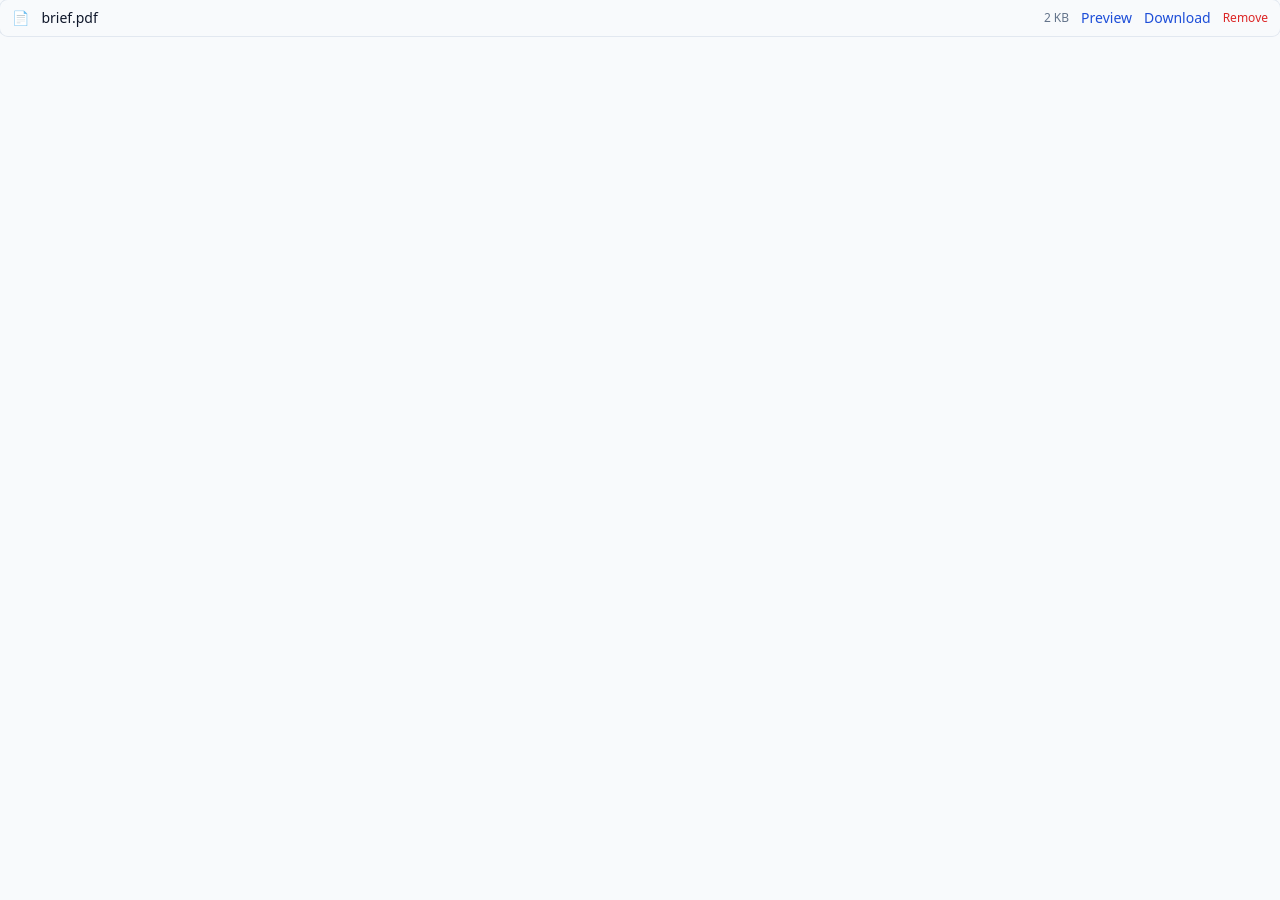
AttachmentList › shows the error when the file cannot be loaded
The image size is (1280, 900).
Click the button with aria-label "Preview brief.pdf": [1107, 18] box [1081,8,1132,28]
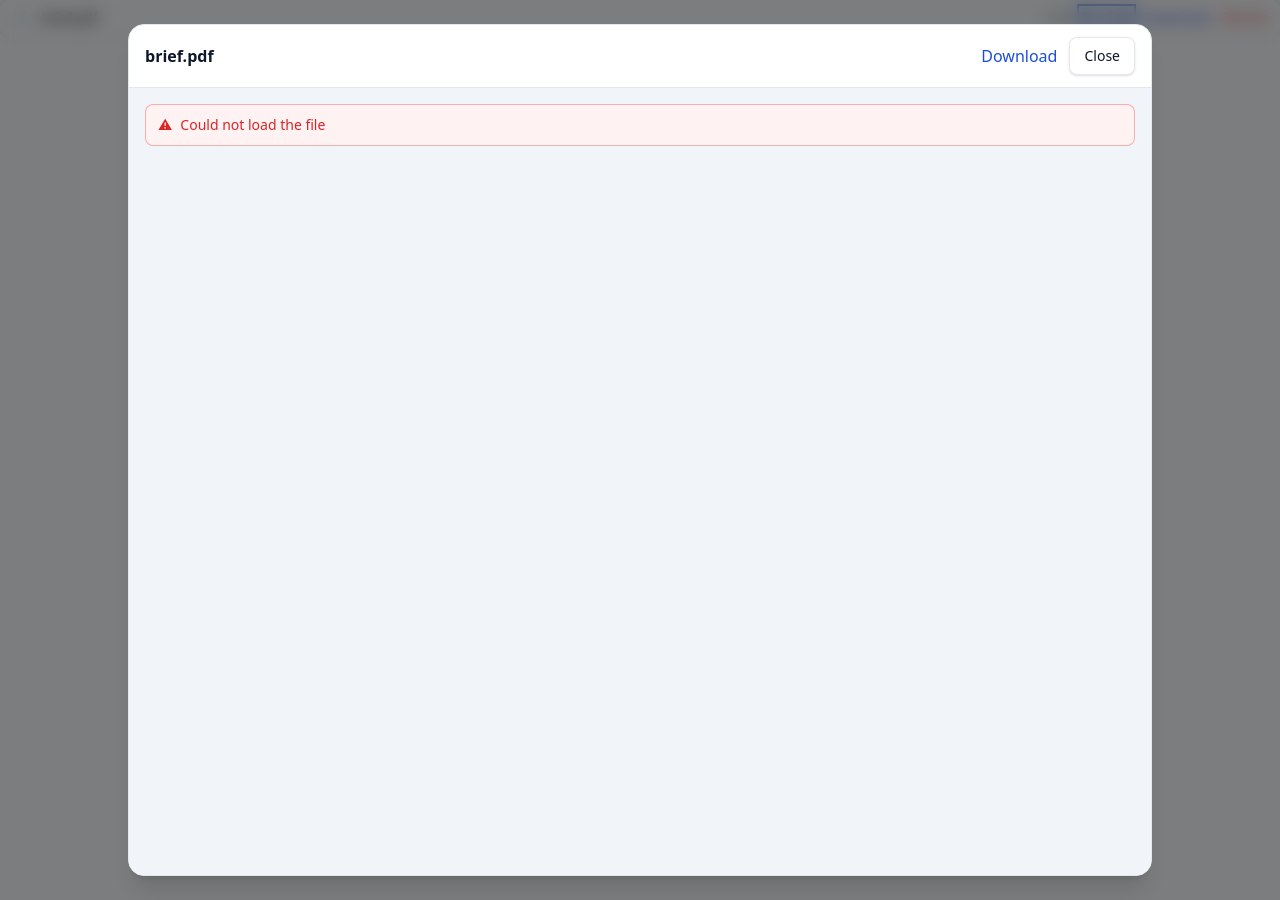
Expected: the text "Could not load the file" is shown, [180,115,325,135]
